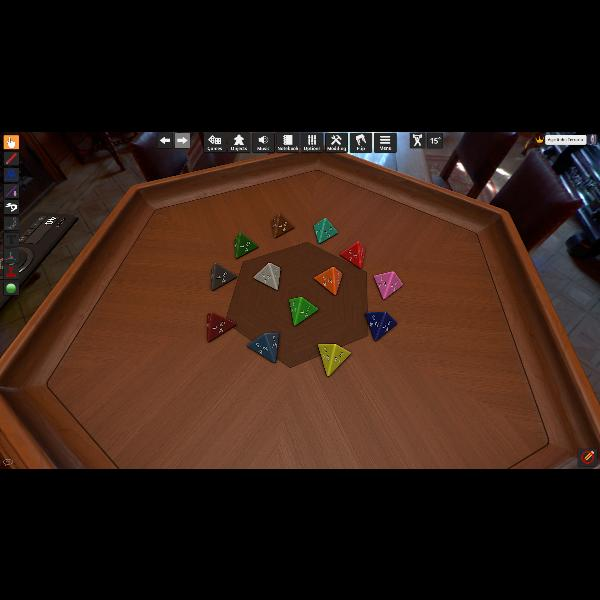d4: (318, 342, 349, 376), (247, 332, 279, 364), (365, 311, 395, 341), (374, 270, 402, 300), (206, 311, 234, 341), (253, 263, 281, 291), (290, 296, 316, 326), (315, 266, 341, 294), (211, 262, 237, 290), (340, 240, 364, 270), (312, 217, 336, 243), (234, 231, 256, 258), (272, 212, 292, 238)
